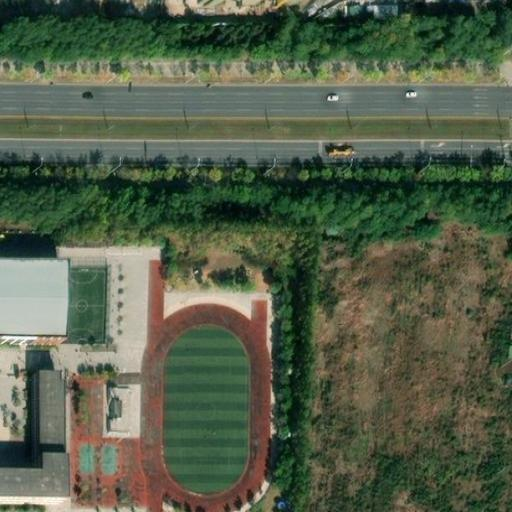building: (0, 260, 67, 335), (0, 450, 67, 506), (30, 366, 68, 456), (108, 376, 143, 436), (204, 0, 296, 3)
